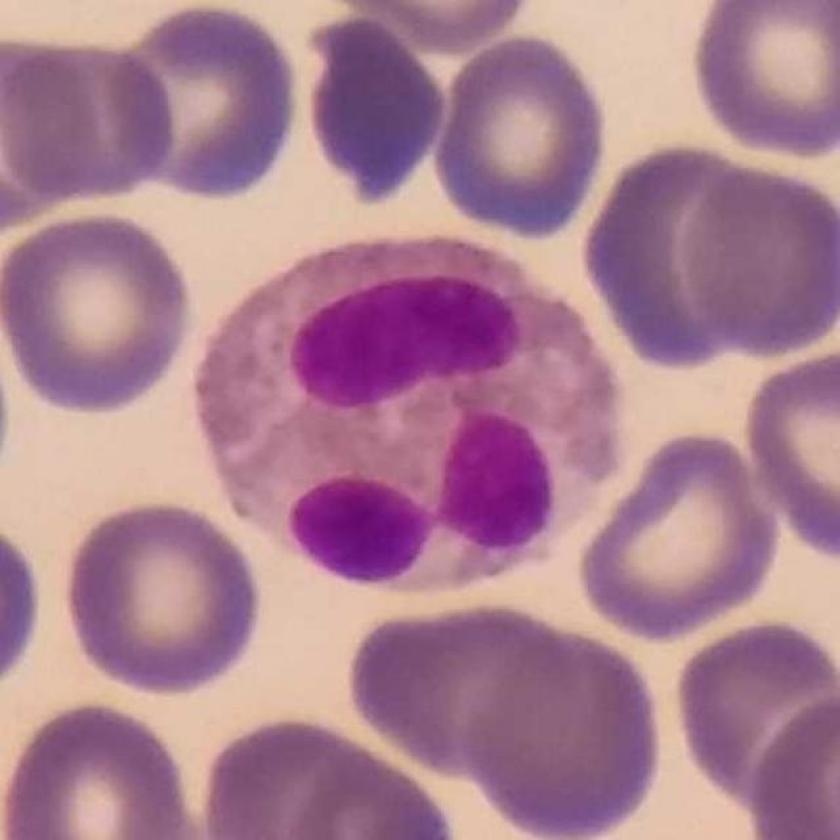eosinophil: (197, 237, 630, 596)
